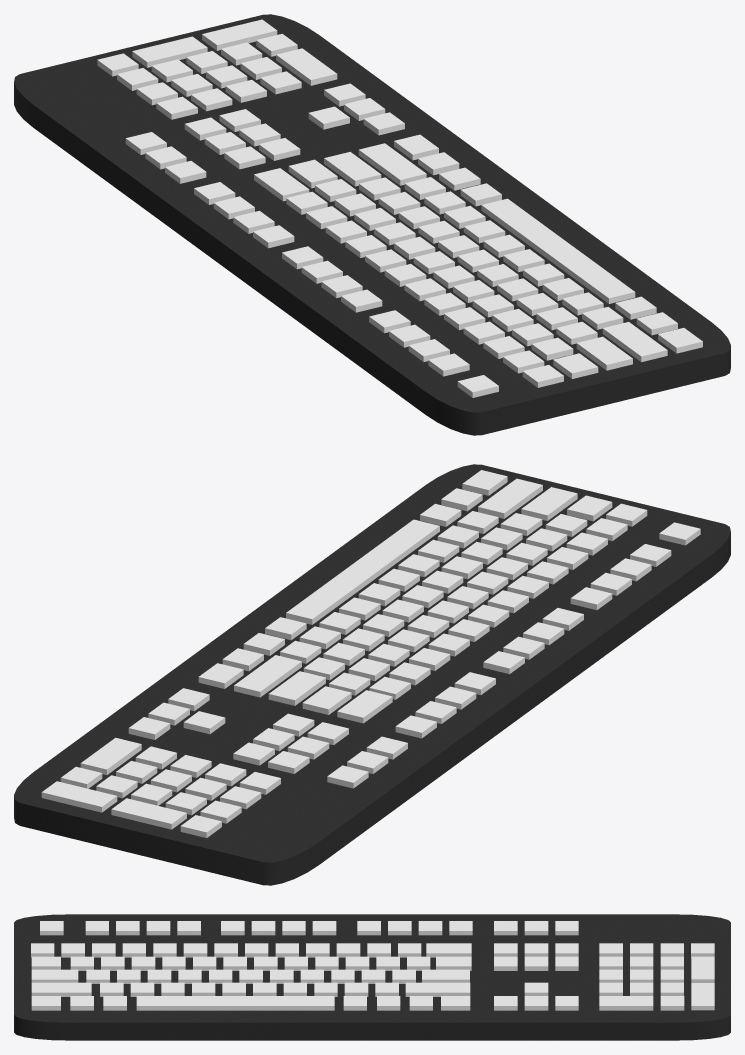
Rendered from keyboard.glb.
3 views of the same model, one above another, from view 1: azimuth 30°, elevation 25°; view 2: azimuth 150°, elevation 25°; view 3: azimuth 270°, elevation 25° (orthographic). The views are drawn at different scales.
Visible parts, largest first — view 1: keyboard; view 2: keyboard; view 3: keyboard.
Boxes of the visible parts, bbox=[...] form: keyboard: bbox=[14, 14, 730, 435]; keyboard: bbox=[14, 464, 730, 885]; keyboard: bbox=[14, 914, 730, 1040].
Size of the model in its own units: 0.1657 by 0.0159 by 0.4638.
2 materials, 2 textured.
